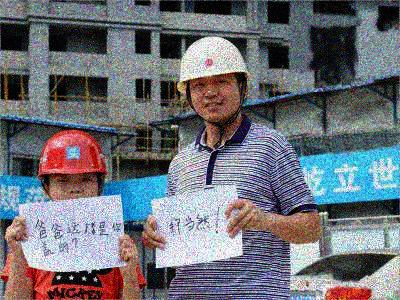helmet: (174, 36, 254, 121), (37, 129, 108, 202)
